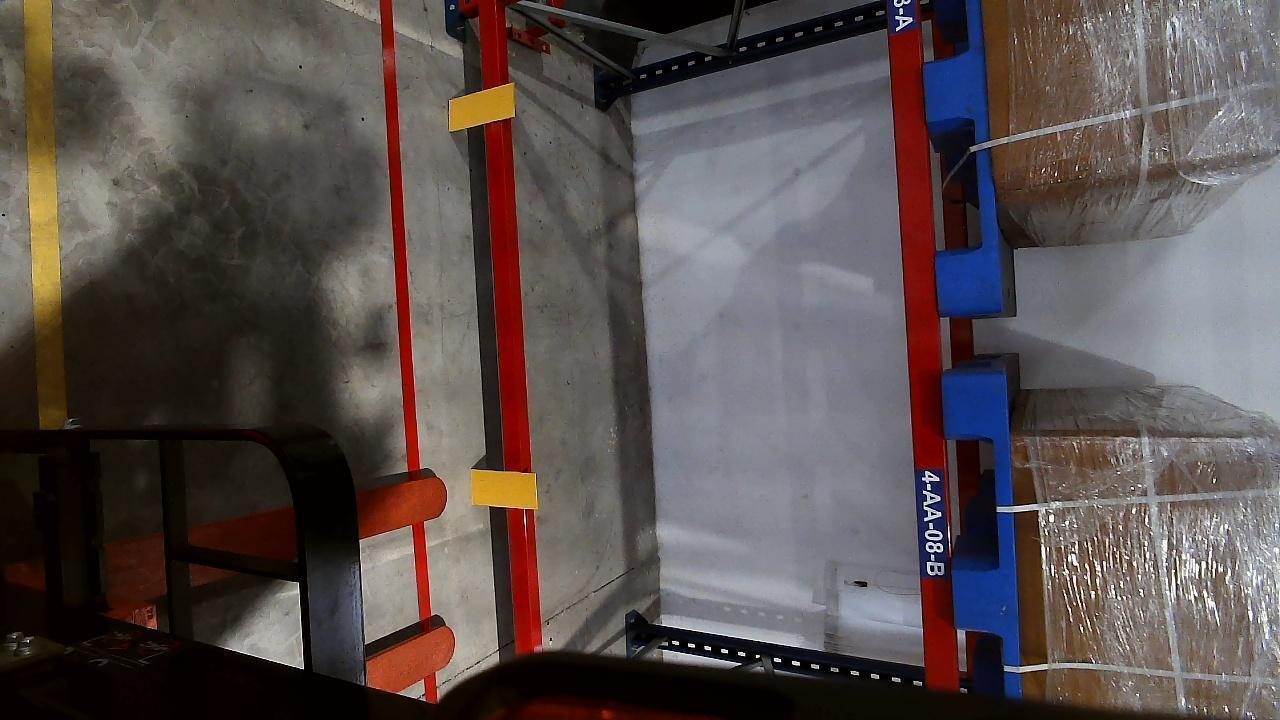red_line: (378, 3, 434, 612)
yellow_line: (22, 3, 67, 428)
